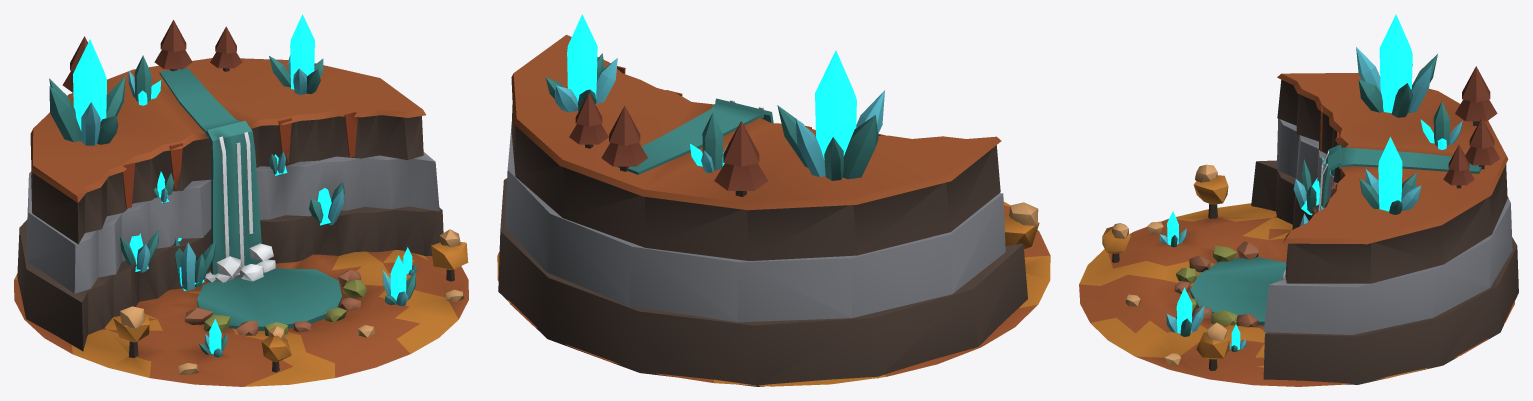
The model's file is nw_crystal_falls.glb.
The picture shows the model from 3 angles, left to right: view 1: azimuth 30°, elevation 25°; view 2: azimuth 150°, elevation 25°; view 3: azimuth 270°, elevation 25°; orthographic projection. The views are drawn at different scales.
Visible parts, largest first — view 1: nw_crystal_falls; view 2: nw_crystal_falls; view 3: nw_crystal_falls.
Part boxes in pixels (x1,y1,x2,y2): nw_crystal_falls: (14, 14, 468, 386); nw_crystal_falls: (497, 14, 1050, 386); nw_crystal_falls: (1079, 14, 1518, 386).
Bounding box in the file's own units: 1.54 × 0.899 × 1.54.
